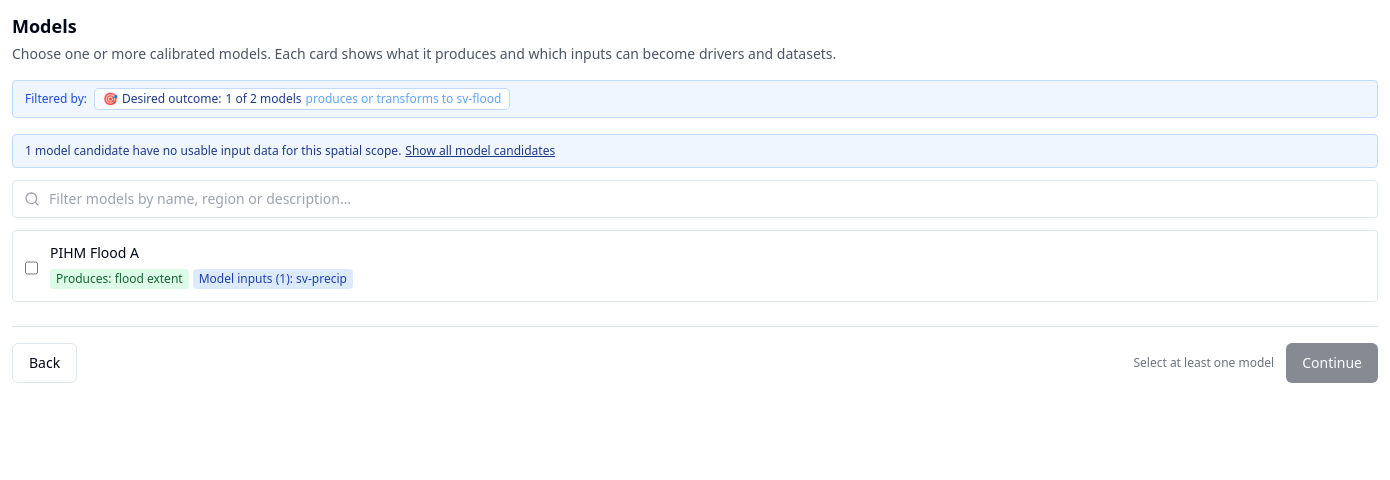
Test case: ModelsStep › filters model candidates by spatially available input data with an all-models fallback
Expected: the text "PIHM Flood A" is shown, [50,243,139,262]
Expected: the text "PIHM Flood B" is not shown
Click the button "Show all model candidates" at x=480, y=151, box [405,143,555,159]
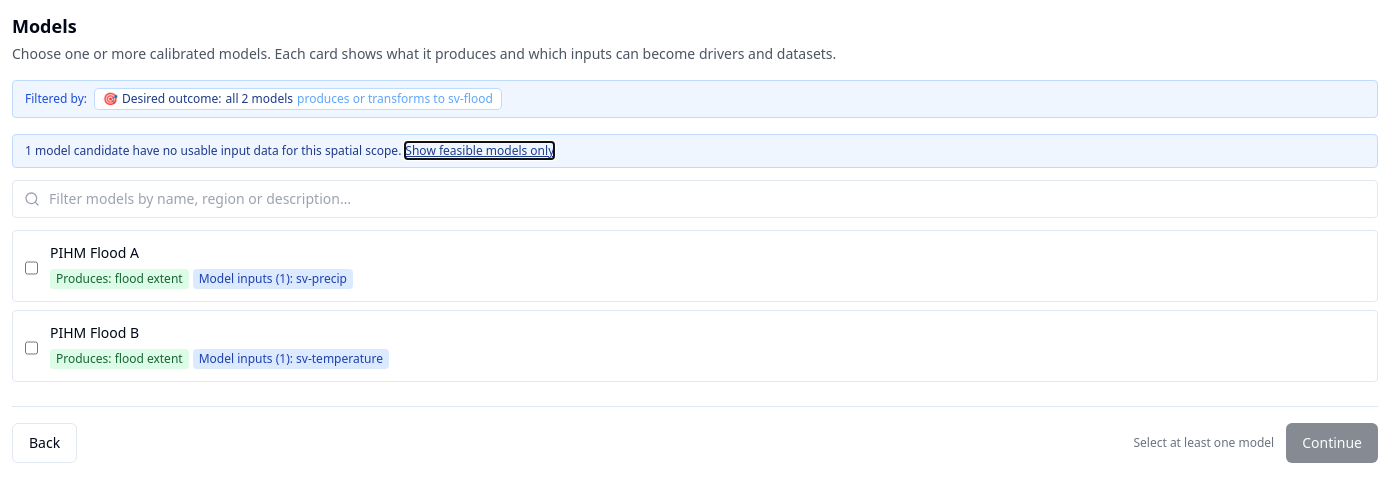
Now the text "PIHM Flood B" is shown, box [50,323,139,342]
